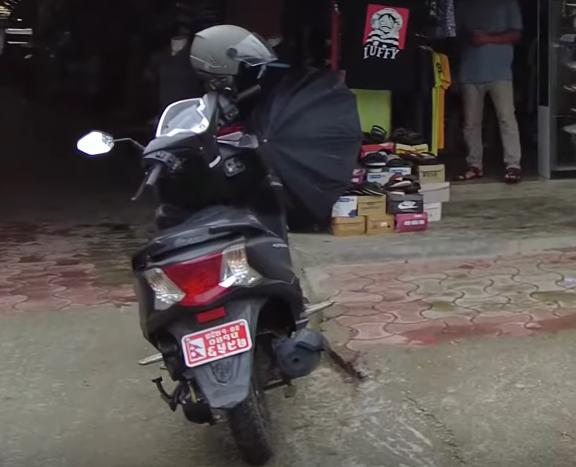scooter: (70, 76, 337, 467)
